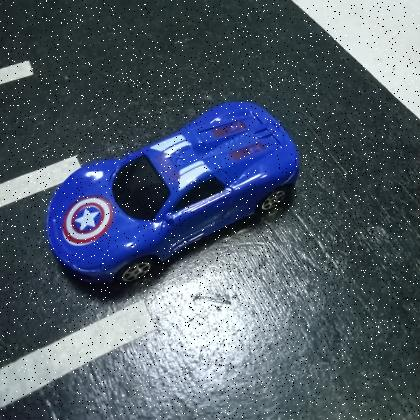Car: (44, 98, 302, 288)
